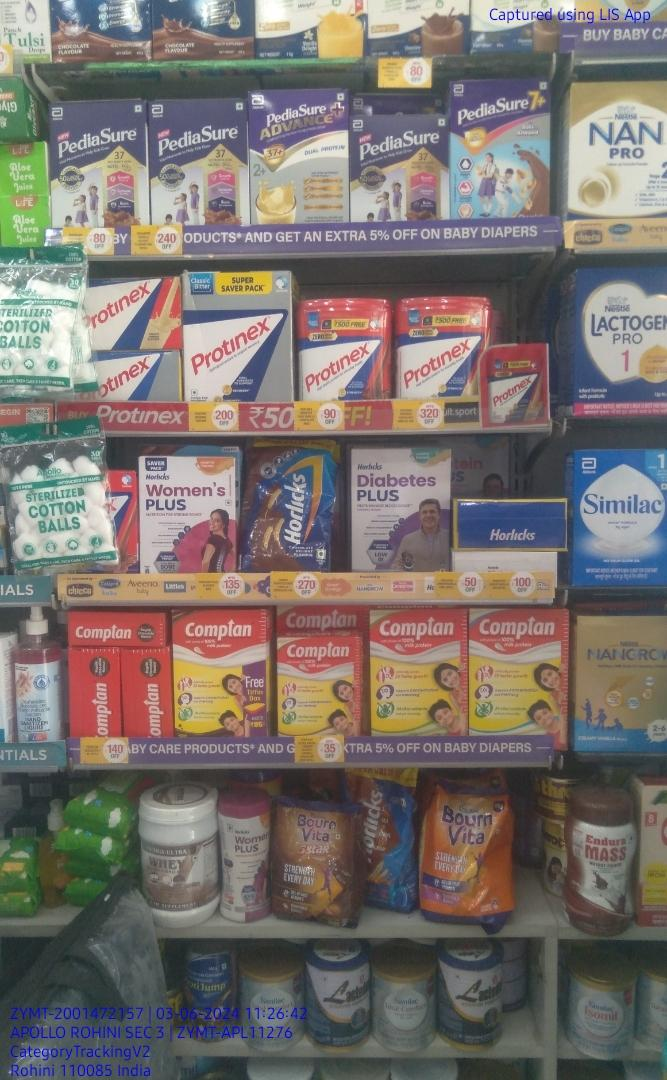PEDIASURE_7_PLUS_CHOCOLATE_400_G_PACK: (448, 80, 549, 217)
PEDIASURE_CHOCOLATE_500_G_PACK: (149, 99, 247, 226), (51, 101, 146, 225)
PROTINEX_CHOCOLATE_400_G_JAR: (296, 300, 390, 401)
PROTINEX_VANILLA_400_G_JAR: (393, 298, 481, 396)
